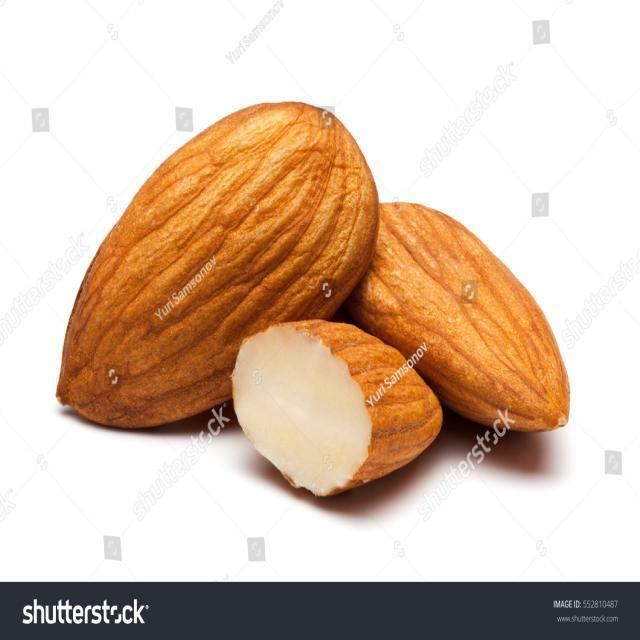almond: (58, 100, 382, 435), (353, 199, 575, 434)
